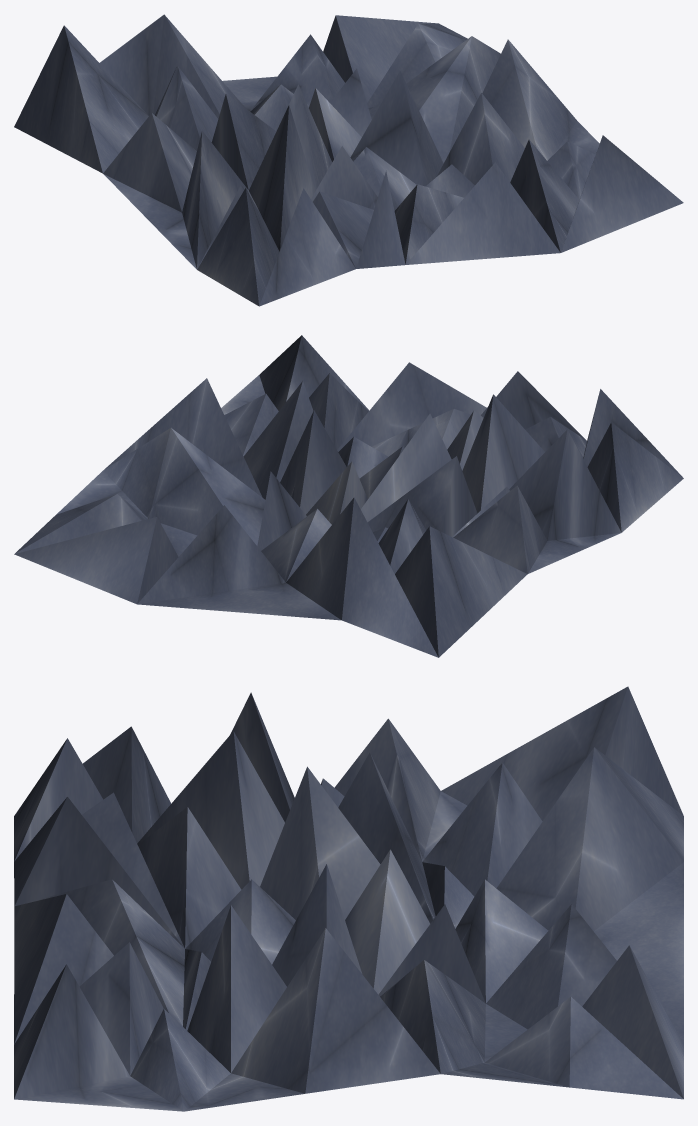
The model's file is SM_Spikes_A.fbx.
The picture shows the model from 3 angles, top to bottom: view 1: azimuth 30°, elevation 25°; view 2: azimuth 150°, elevation 25°; view 3: azimuth 270°, elevation 25°; orthographic projection. The views are drawn at different scales.
Parts seen in each view (by area): view 1: Spikes_LR; view 2: Spikes_LR; view 3: Spikes_LR.
Boxes of the visible parts, box(x1,y1,x2,y2) form: Spikes_LR: box(14, 14, 683, 306); Spikes_LR: box(14, 335, 683, 657); Spikes_LR: box(14, 686, 683, 1111).
Size of the model in its own units: 100 by 30.69 by 100.
